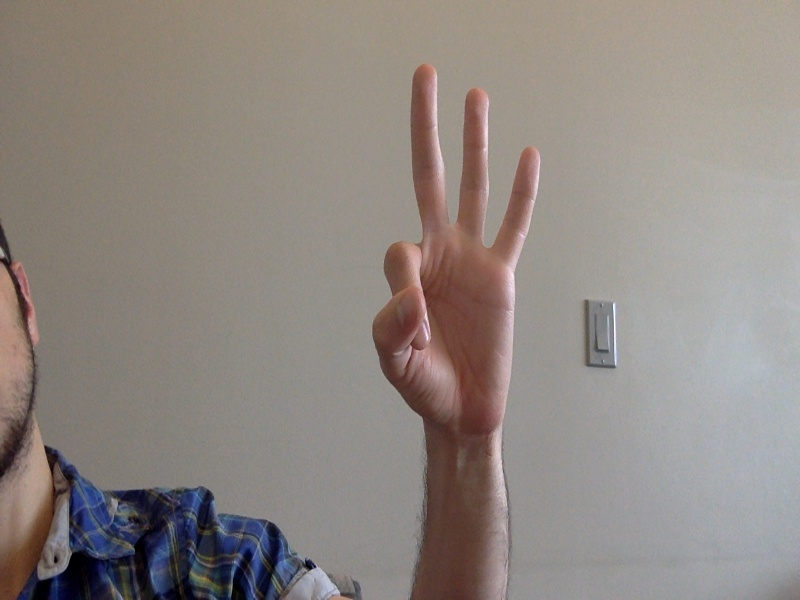3-hand: (376, 63, 545, 434)
